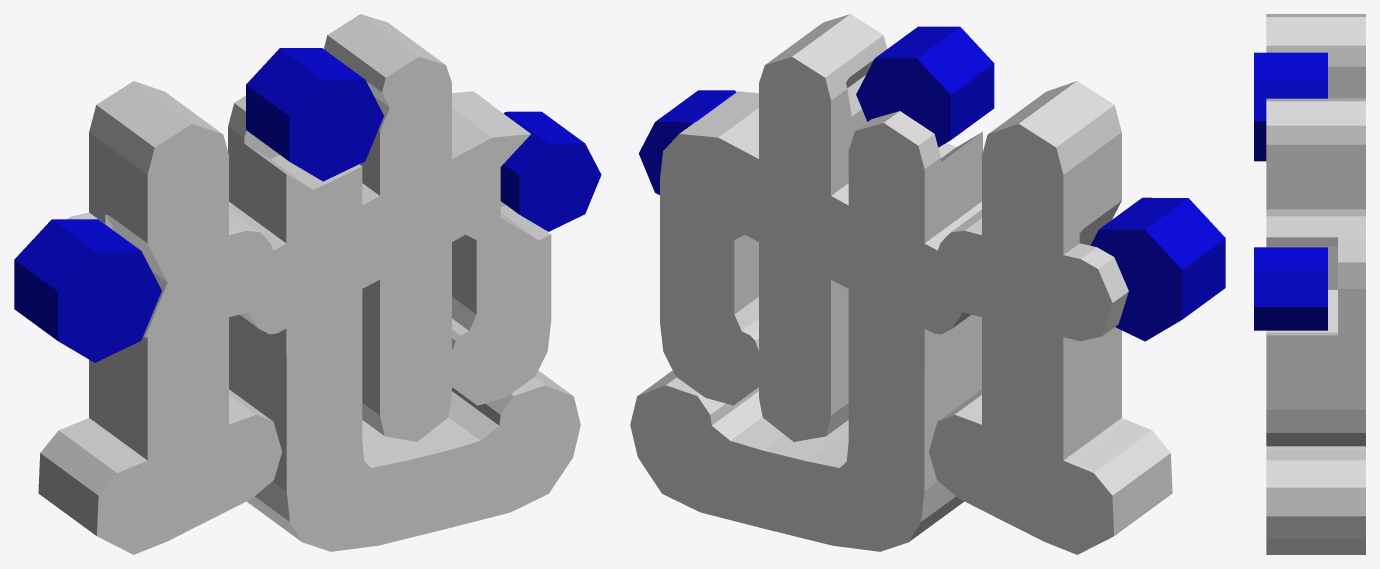
File: Ch_Lite_China_地_01.fbx
3 views of the same model, side by side, from view 1: azimuth 30°, elevation 25°; view 2: azimuth 150°, elevation 25°; view 3: azimuth 270°, elevation 25° (orthographic). The views are drawn at different scales.
Visible parts, largest first — view 1: sphere1; view 2: sphere1; view 3: sphere1.
Boxes of the visible parts, left/top/right/bottom form: sphere1: left=14, top=14, right=601, bottom=554; sphere1: left=630, top=14, right=1225, bottom=554; sphere1: left=1254, top=14, right=1365, bottom=554.
Bounding box in the file's own units: 1.07 × 0.9178 × 0.2242.
